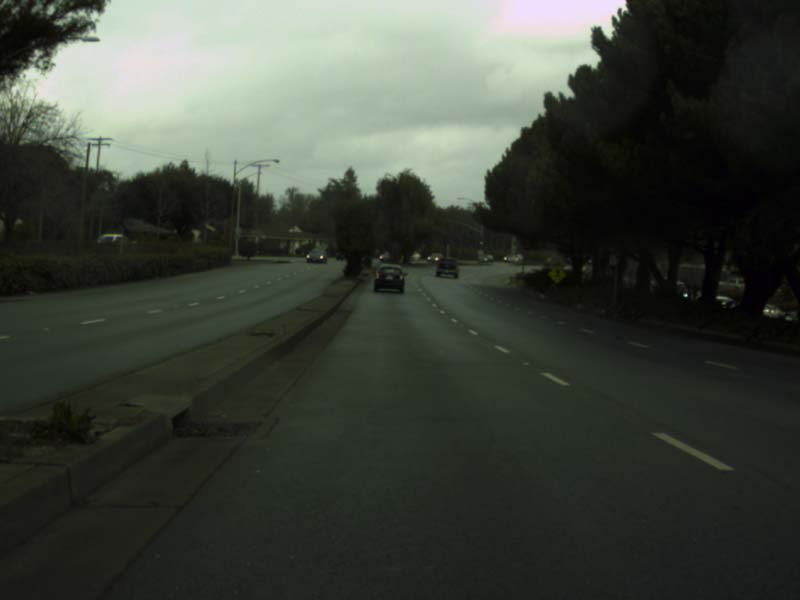Green: (479, 237, 483, 248)
Red: (546, 255, 549, 262)
